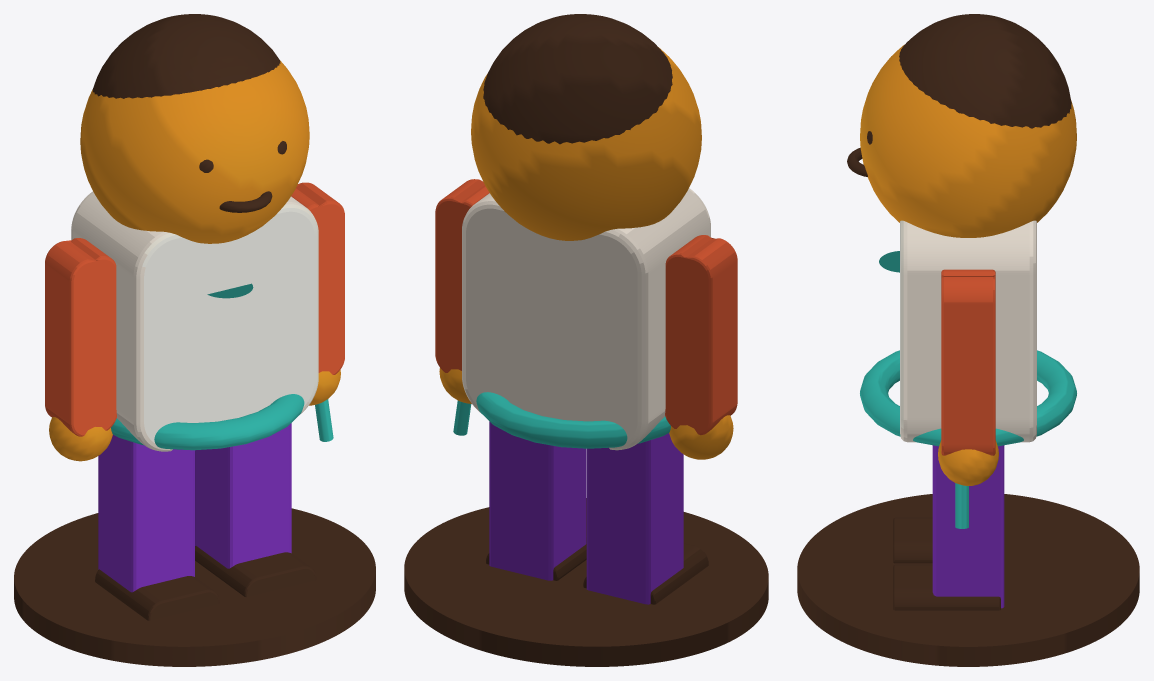
The model's file is 1266_三国演义1_太史慈.glb.
3 views of the same model, side by side, from view 1: azimuth 30°, elevation 25°; view 2: azimuth 150°, elevation 25°; view 3: azimuth 270°, elevation 25° (orthographic).
Parts seen in each view (by area): view 1: card_1266; view 2: card_1266; view 3: card_1266.
Boxes of the visible parts, <box> form: card_1266: <box>14,14,375,666</box>; card_1266: <box>404,14,768,666</box>; card_1266: <box>797,14,1139,666</box>.
Size of the model in its own units: 0.5803 by 1 by 0.5425.
